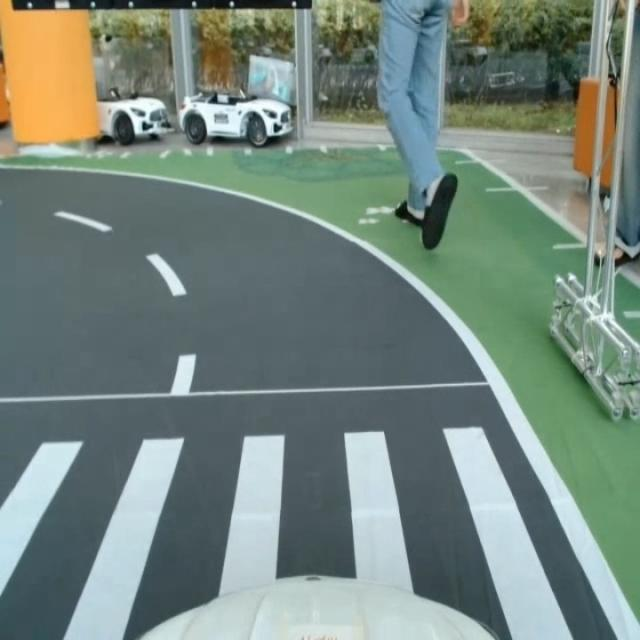traffic-light: (11, 0, 314, 9)
